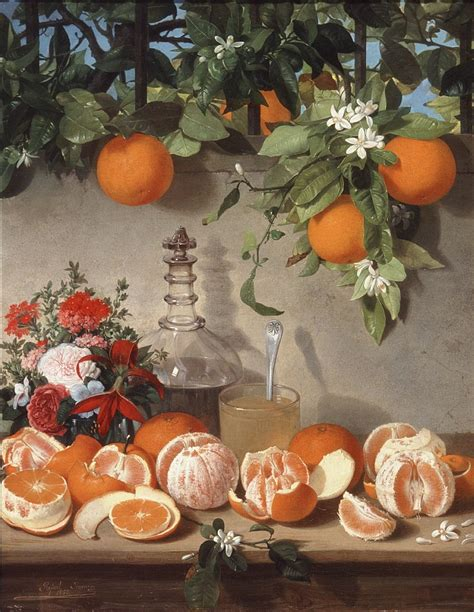orange: (89, 132, 177, 209), (371, 137, 459, 208), (306, 192, 383, 265), (285, 422, 364, 475), (132, 412, 203, 449)
